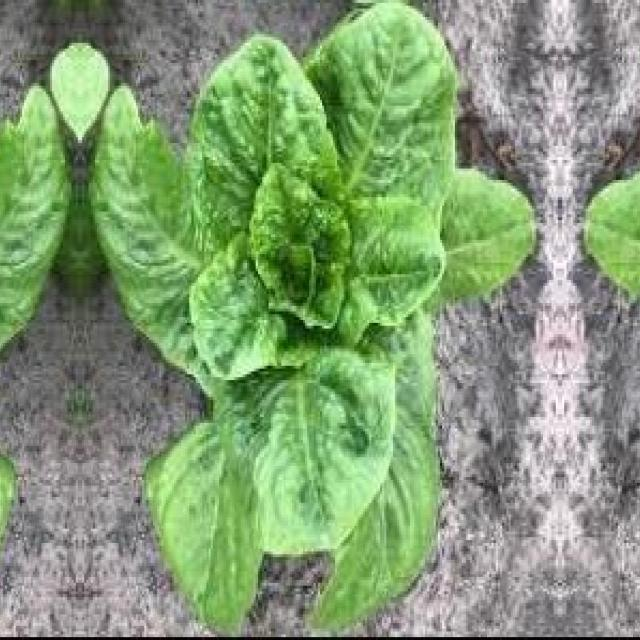healthy: (100, 5, 526, 612), (0, 5, 60, 612), (594, 5, 640, 612)
